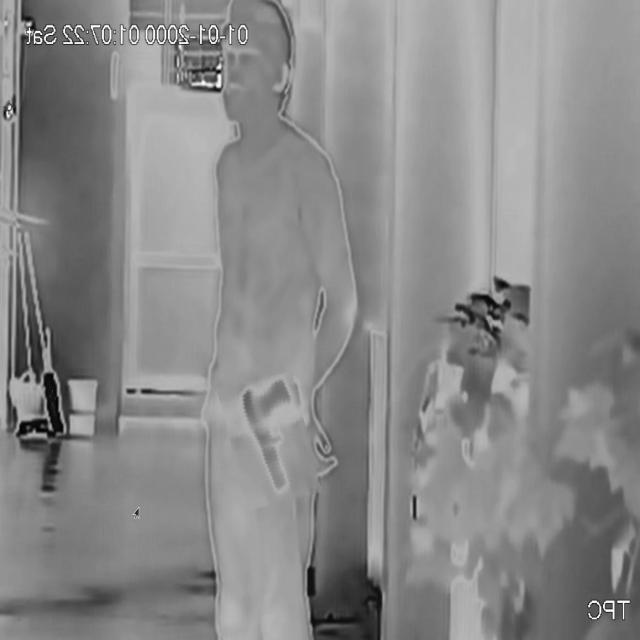Weapon: (224, 374, 315, 506)
